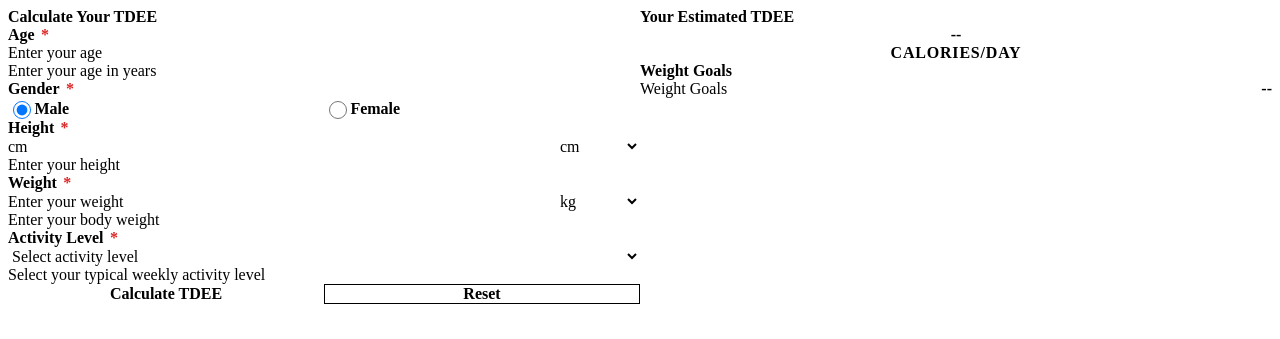
Scenario: TDEECalculator › validates a missing activity level
The width and height of the screenshot is (1280, 339).
In the number field labelled "Age": (324, 53) [8,44,640,62], type "30"
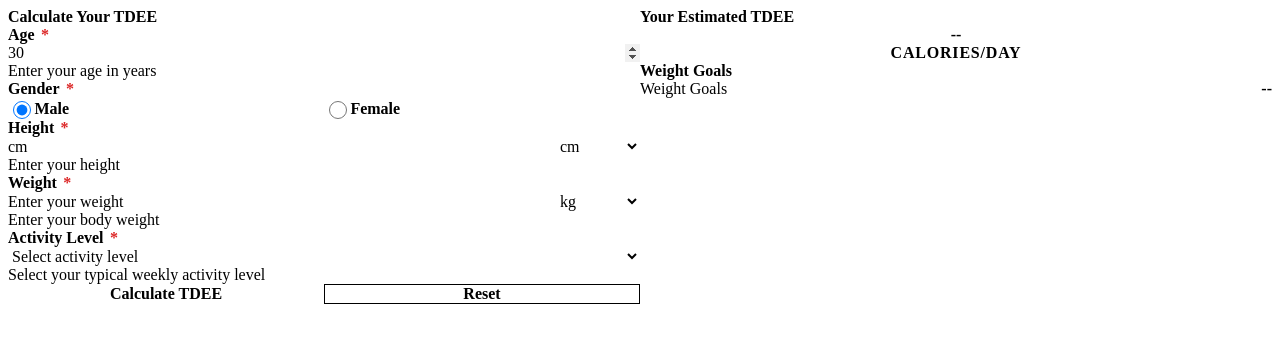
In the number field named "Height": (282, 147) [8,137,556,156], type "180"
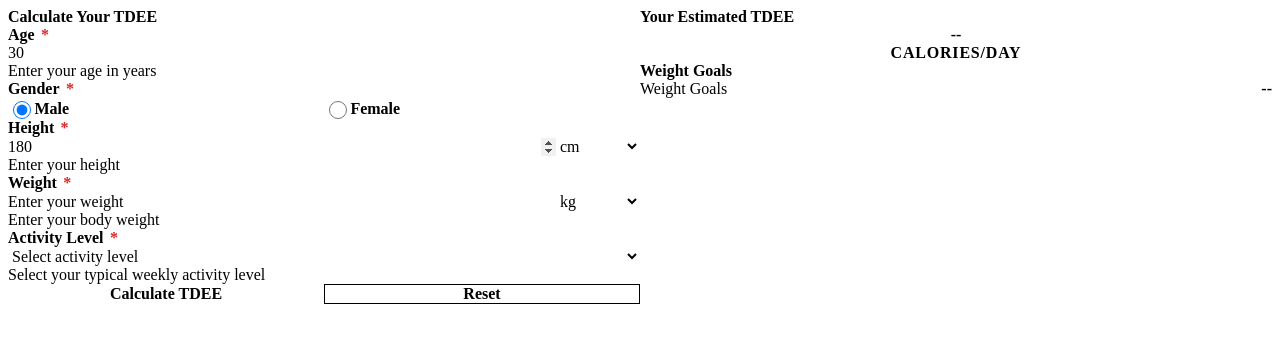
In the number field labelled "weight": (282, 202) [8,192,556,211], type "80"
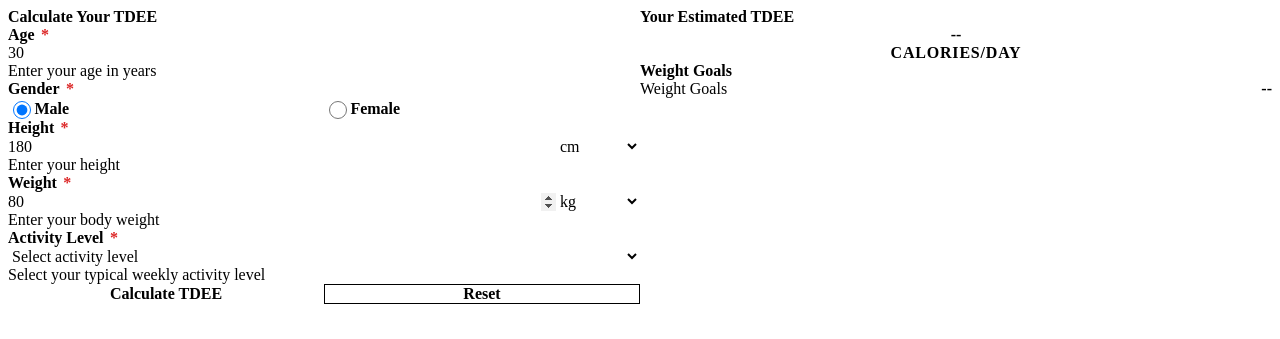
Click the button "Calculate TDEE": (166, 294) [8,284,324,304]
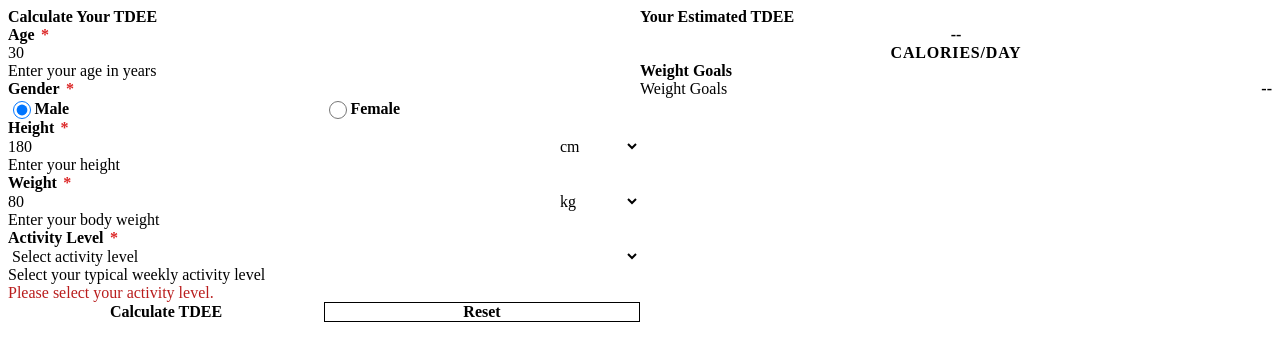
Now the text "Please select your activity level." is shown, box [8,284,214,301]
